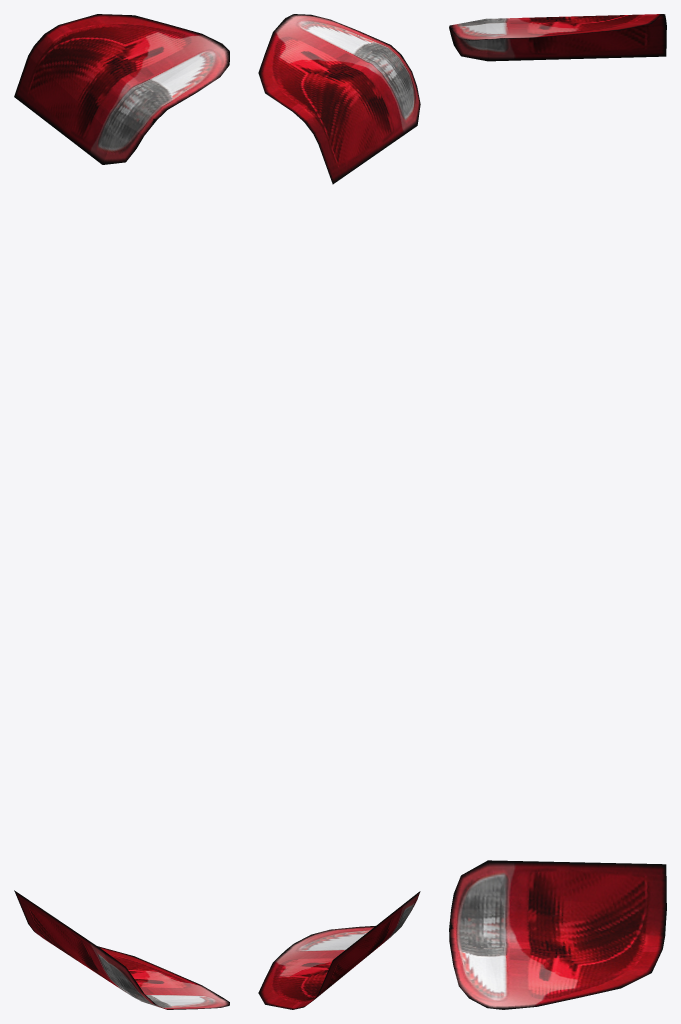
The model's file is brakes_on.obj.
The picture shows the model from 3 angles, left to right: view 1: azimuth 30°, elevation 25°; view 2: azimuth 150°, elevation 25°; view 3: azimuth 270°, elevation 25°; orthographic projection. The views are drawn at different scales.
Visible parts, largest first — view 1: baked; view 2: baked; view 3: baked.
Part boxes in pixels (x1,y1,x2,y2): baked: (14, 14, 229, 1009); baked: (258, 14, 420, 1009); baked: (449, 14, 666, 1009).
Bounding box in the file's own units: 0.2237 × 1.58 × 0.3218.
Materials: 1 (1 with a texture image).
